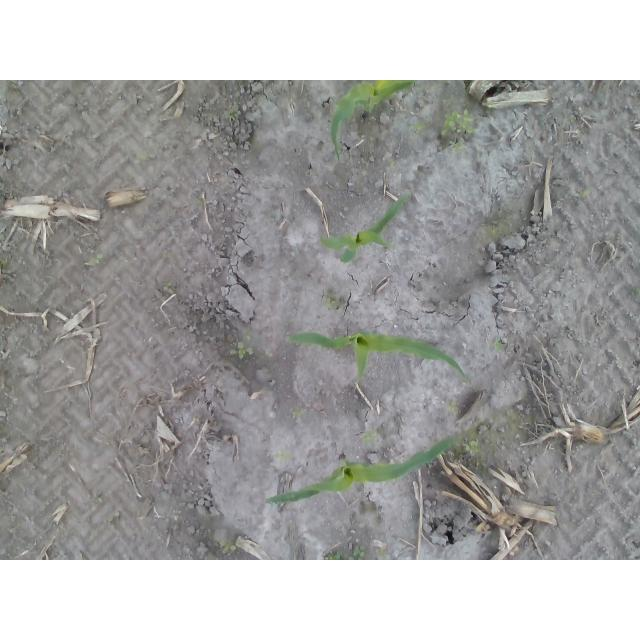Maize: (267, 436, 462, 503), (285, 330, 468, 384), (329, 80, 419, 160), (320, 192, 411, 264)
Weeds: (441, 109, 476, 136), (230, 342, 252, 359), (348, 544, 365, 561), (449, 139, 468, 153), (488, 336, 504, 352), (219, 539, 237, 553), (363, 429, 378, 444), (410, 120, 426, 134), (275, 452, 292, 465), (225, 107, 240, 121), (463, 441, 478, 454), (89, 253, 104, 266), (326, 549, 343, 560), (292, 407, 306, 418), (164, 282, 175, 295), (446, 401, 460, 411), (106, 512, 118, 523), (134, 152, 147, 162), (93, 493, 104, 504), (388, 157, 397, 170), (574, 190, 590, 197), (241, 329, 251, 340), (325, 297, 335, 307), (374, 549, 386, 557), (11, 83, 22, 90), (1, 256, 8, 264), (485, 101, 492, 108), (570, 115, 577, 121), (635, 287, 640, 294), (533, 230, 541, 234)
